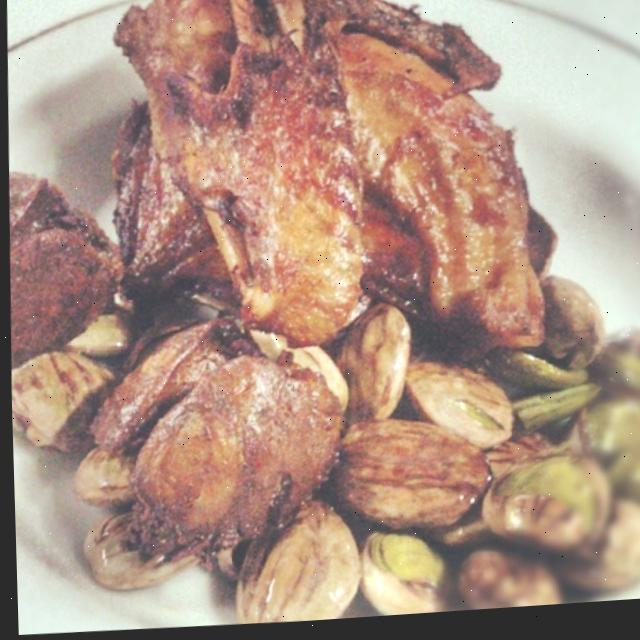鸡肉料理 含炸鸡: (0, 0, 637, 597)
